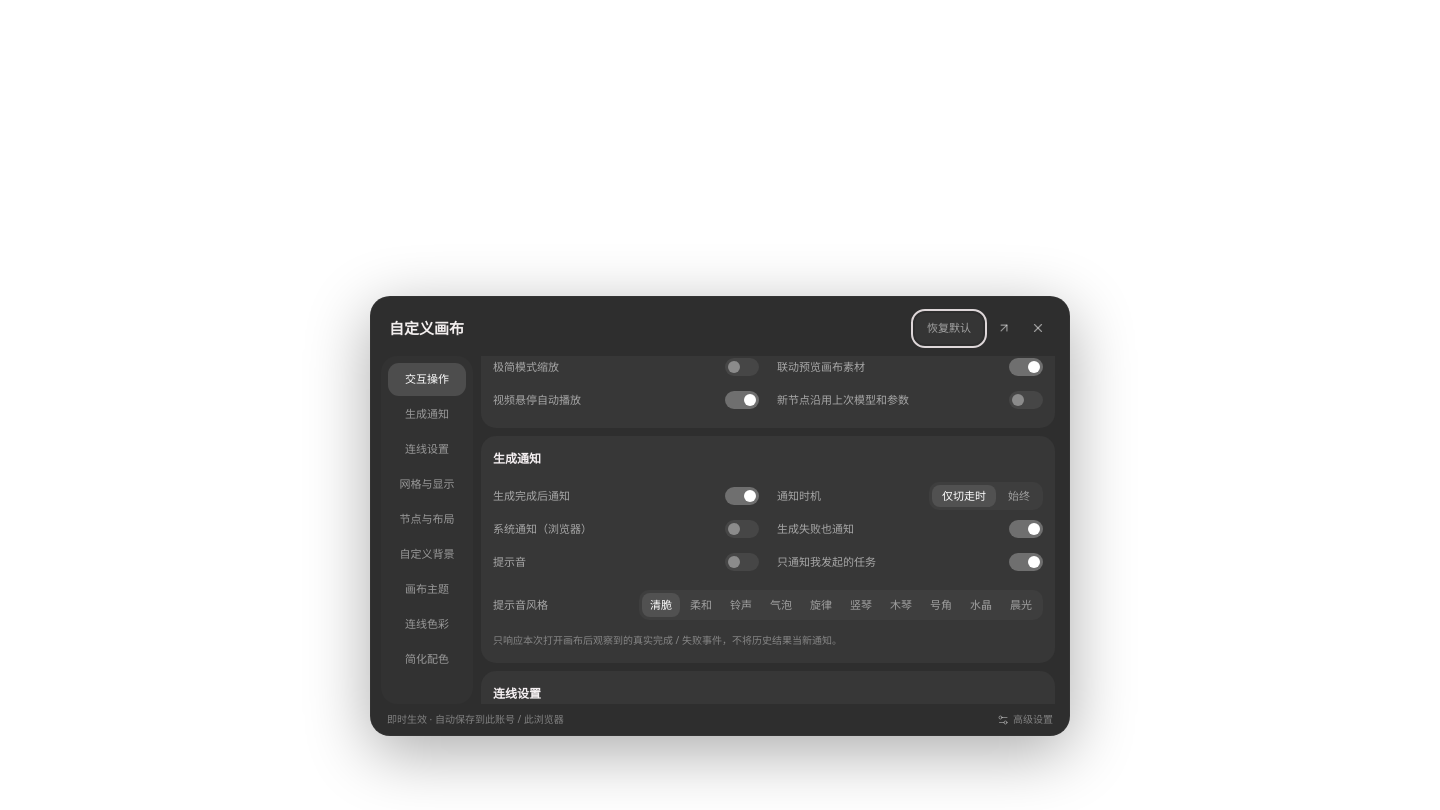
Test: reference panel controls › never claims system permission was granted when the browser denied it
(page scrolled)
Click the switch named "系统通知（浏览器）" at (742, 529), box [725,520,759,538]
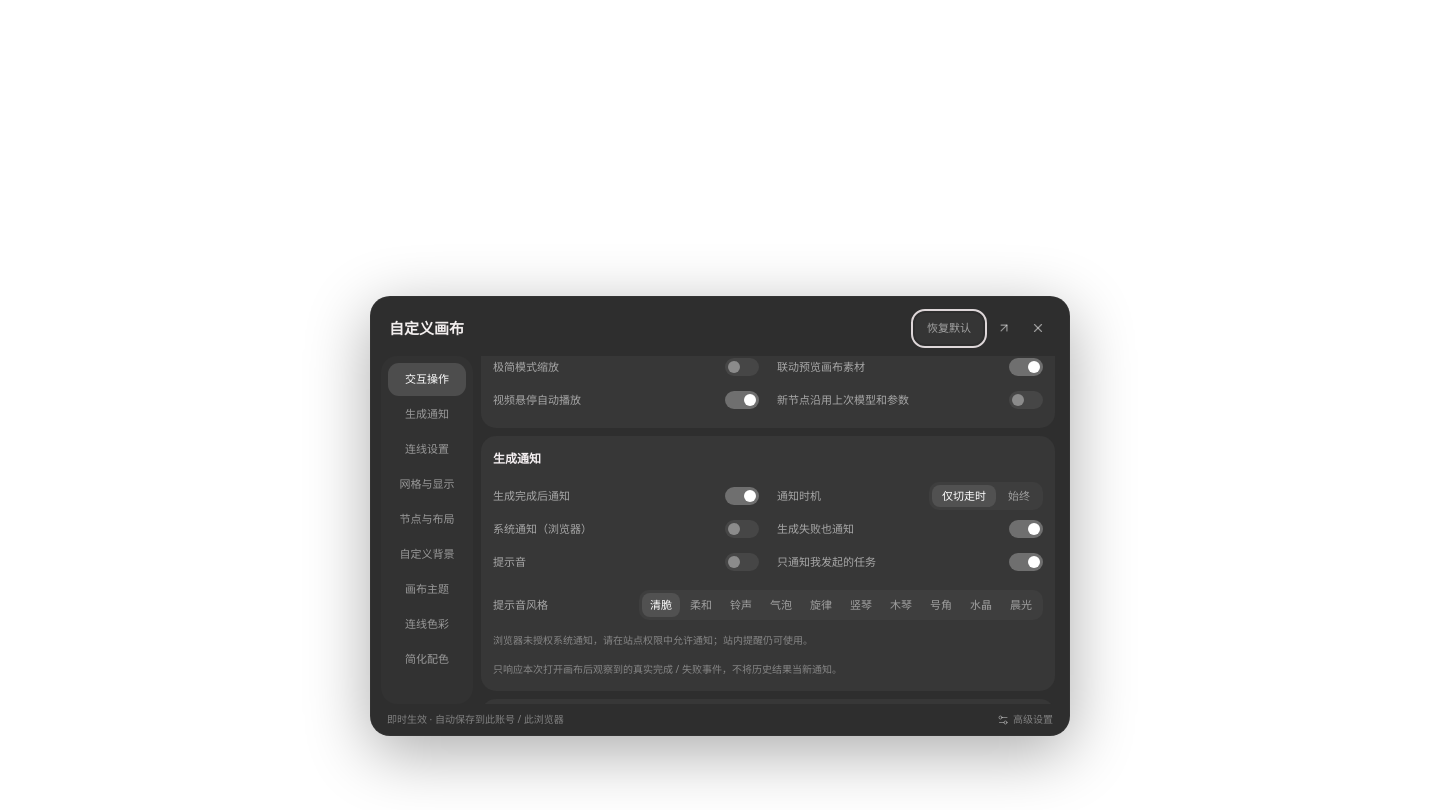
Now the message with class "canvas-settings-note" shows "未授权", box [493,633,813,647]
